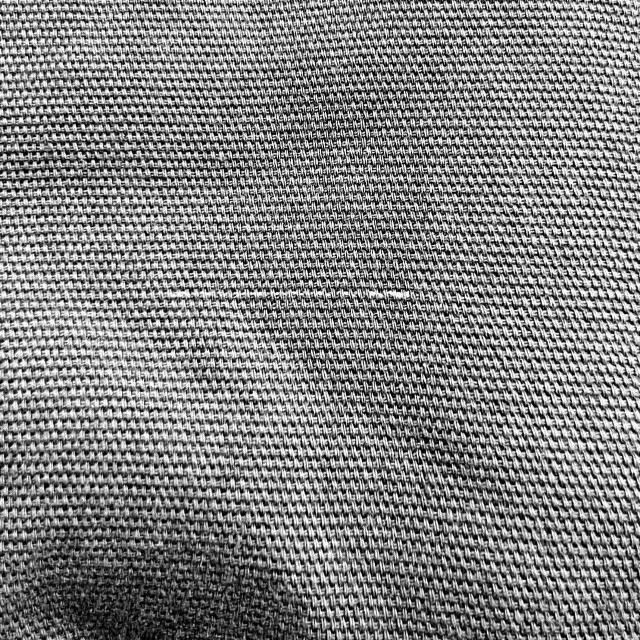Foreign_yarn: (134, 273, 460, 320)
